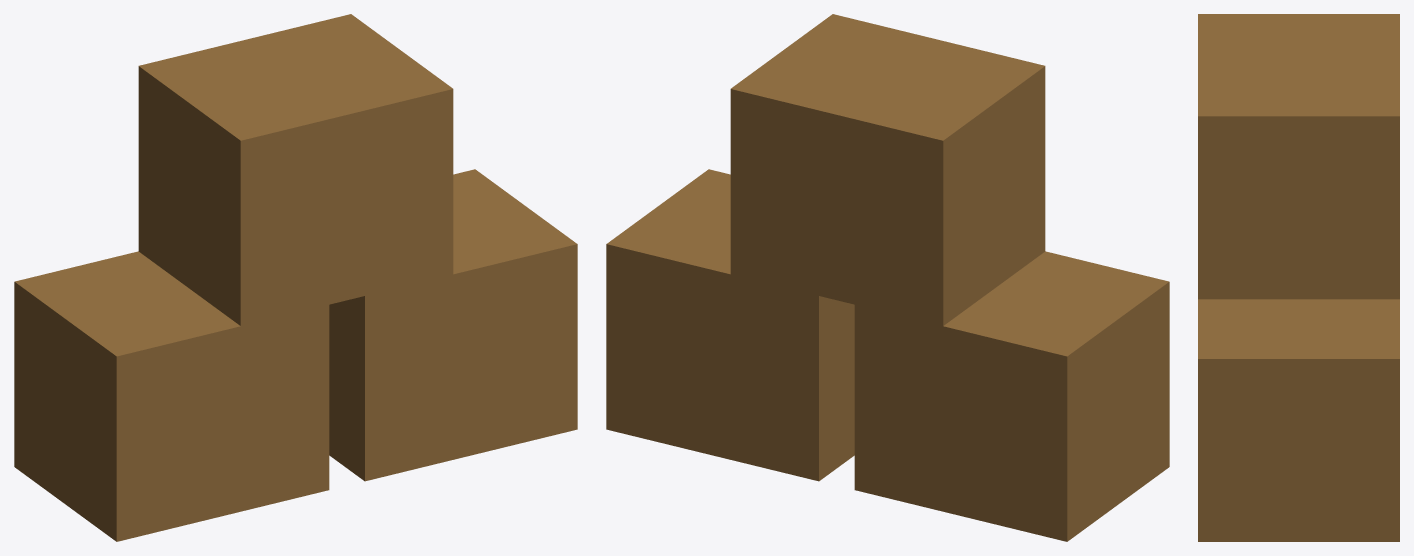
Rendered from crate_stack.glb.
3 views of the same model, side by side, from view 1: azimuth 30°, elevation 25°; view 2: azimuth 150°, elevation 25°; view 3: azimuth 270°, elevation 25° (orthographic).
Visible parts, largest first — view 1: crate_stack; view 2: crate_stack; view 3: crate_stack.
Part boxes in pixels (x1,y1,x2,y2): crate_stack: (14, 14, 577, 541); crate_stack: (606, 14, 1169, 541); crate_stack: (1198, 14, 1399, 541).
Bounding box in the file's own units: 1.3 × 1 × 0.5.
